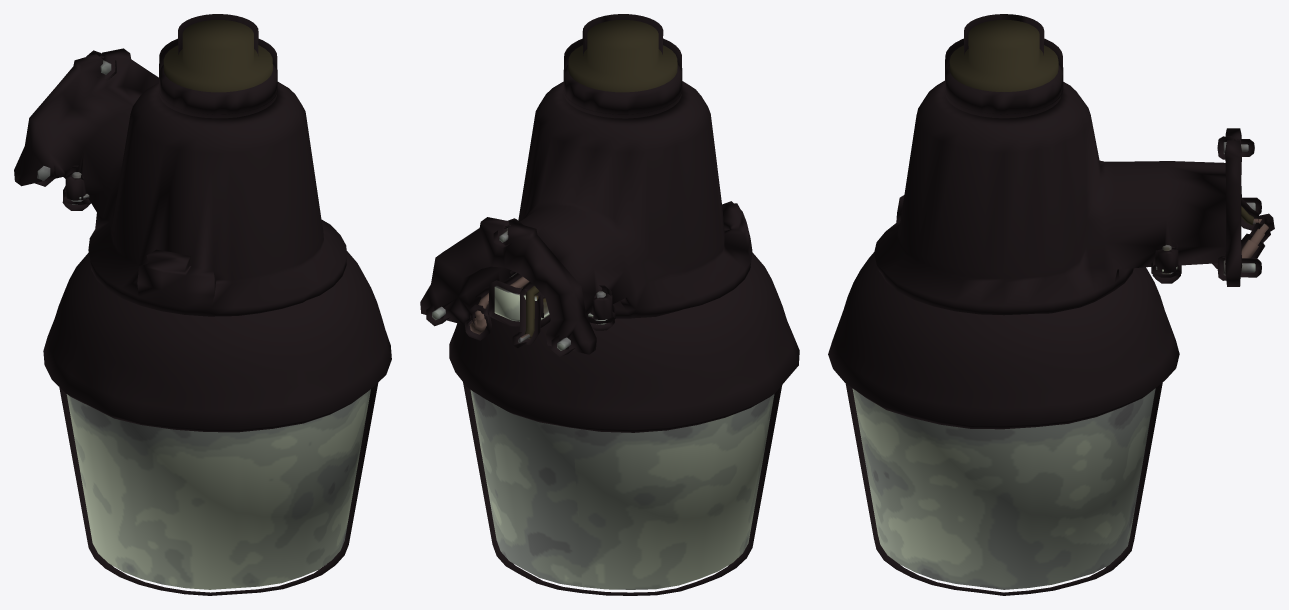
File: SM_Int_SecurityLight.fbx
3 views of the same model, side by side, from view 1: azimuth 30°, elevation 25°; view 2: azimuth 150°, elevation 25°; view 3: azimuth 270°, elevation 25° (orthographic).
Visible parts, largest first — view 1: SM_Int_SecurityLight; view 2: SM_Int_SecurityLight; view 3: SM_Int_SecurityLight.
Boxes of the visible parts, x1,y1,x2,y2 form: SM_Int_SecurityLight: (14,14,391,595); SM_Int_SecurityLight: (420,14,799,595); SM_Int_SecurityLight: (828,14,1274,595).
Size of the model in its own units: 0.3347 by 0.5425 by 0.4287.
